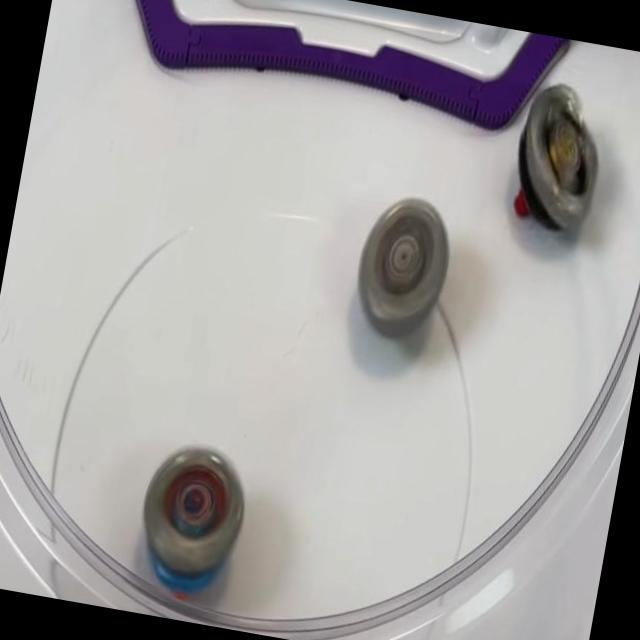Beyblade: (129, 436, 256, 598), (344, 188, 460, 346), (502, 78, 611, 240)
